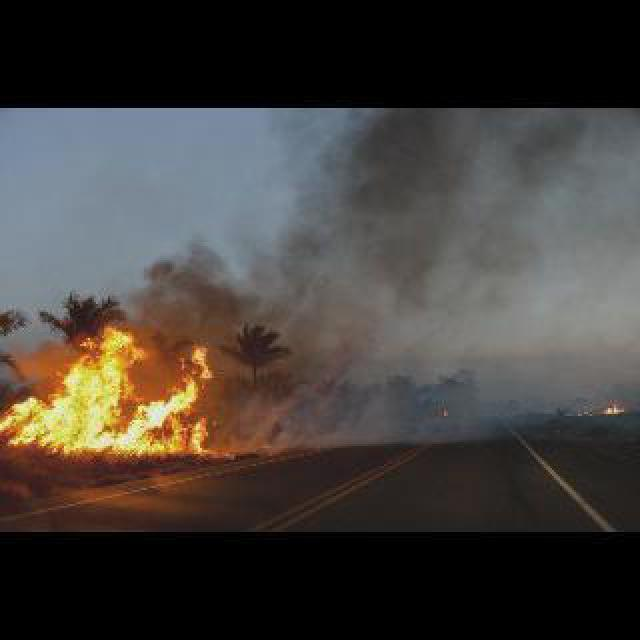Fire: (3, 310, 235, 460)
Smoke: (233, 108, 640, 456)
